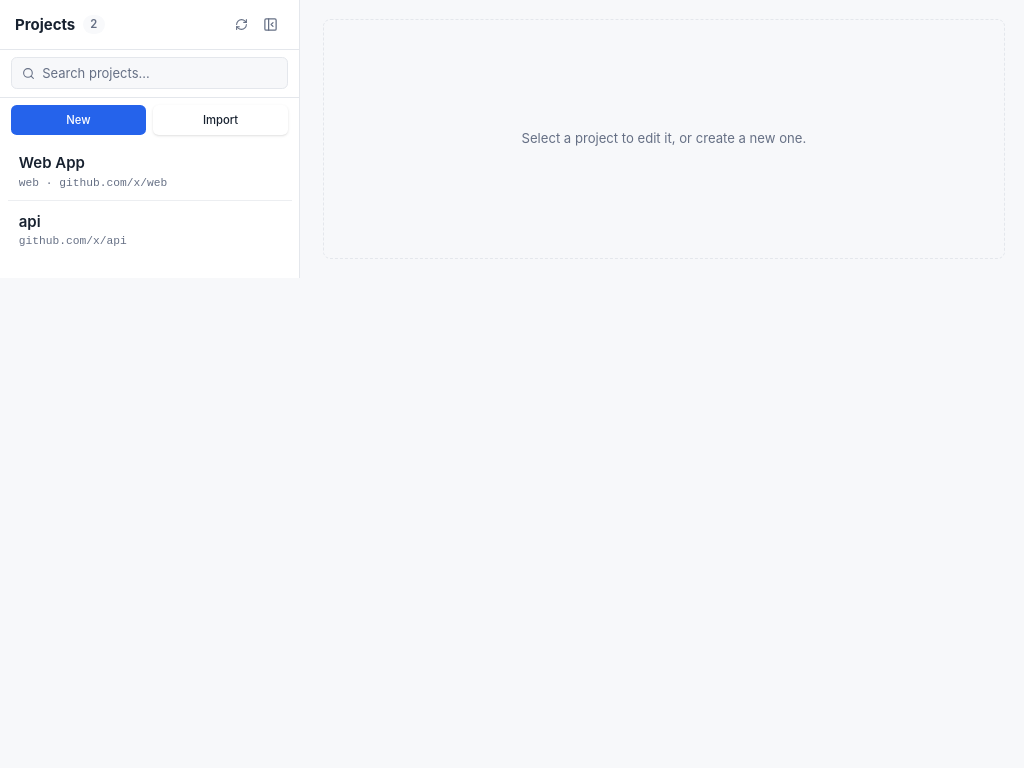
Scenario: ProjectsPage › surfaces the server's secret_params_orphaned rejection in the save error
The image size is (1024, 768).
Click the button "Web App web · github.com/x/web". click: (52, 163)
box: [8,143,292,201]
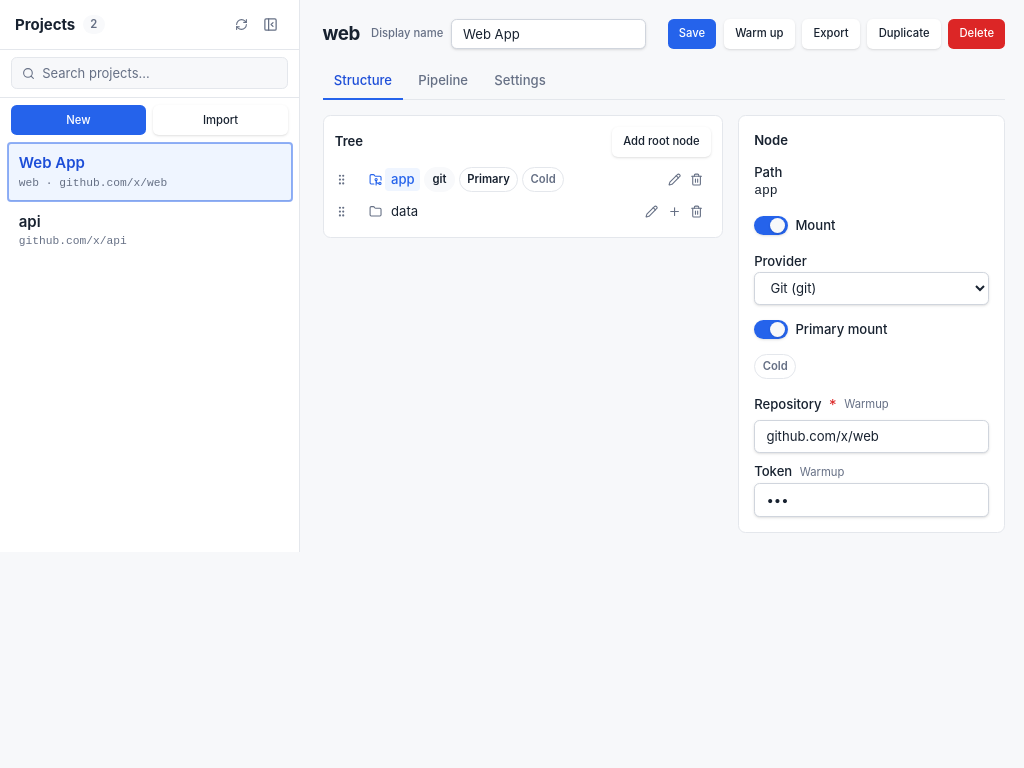
Expected: the button "app" is shown, [385,168,420,190]
Click the button named "Rename app". click: (674, 179)
box: [664,169,685,190]
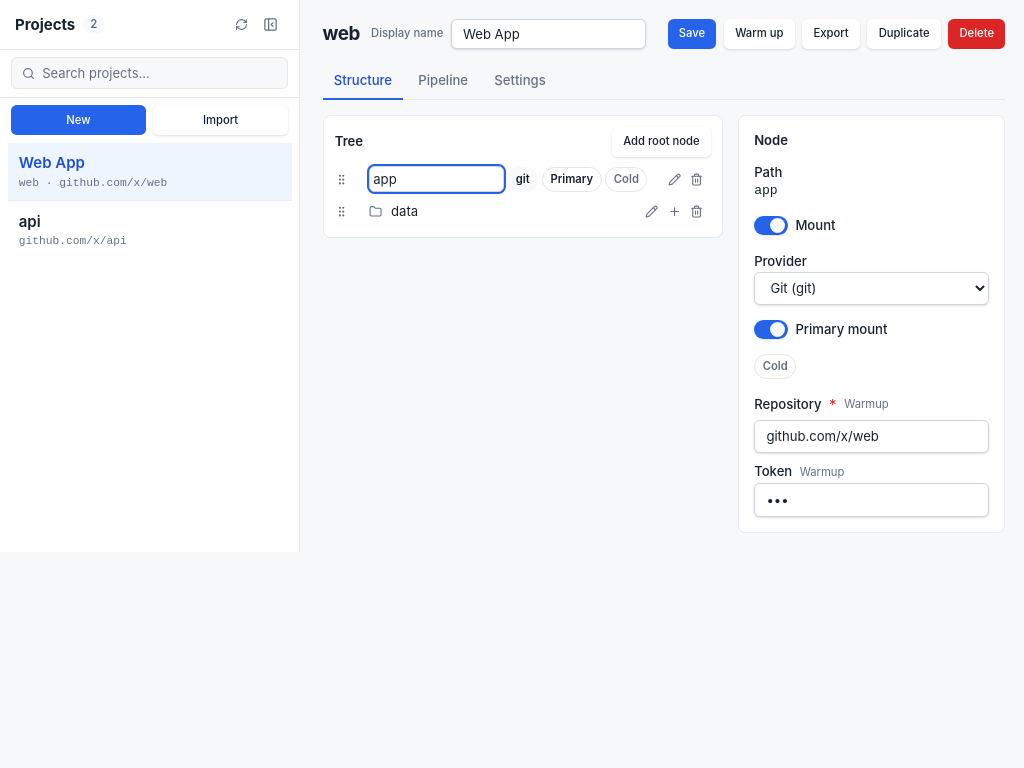
Replace the text in the field showing "app" with "frontend". click: (436, 179)
box: [368,166,504,192]
Then press Enter
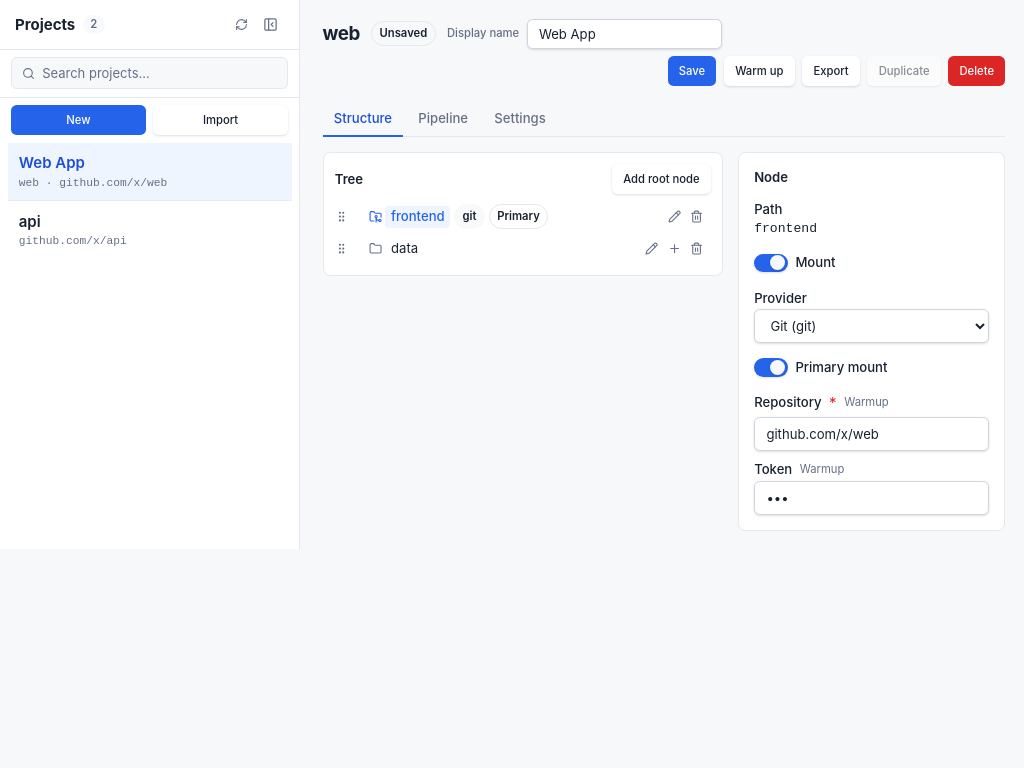
Click the button "Save". click: (692, 71)
box: [668,56,716,86]
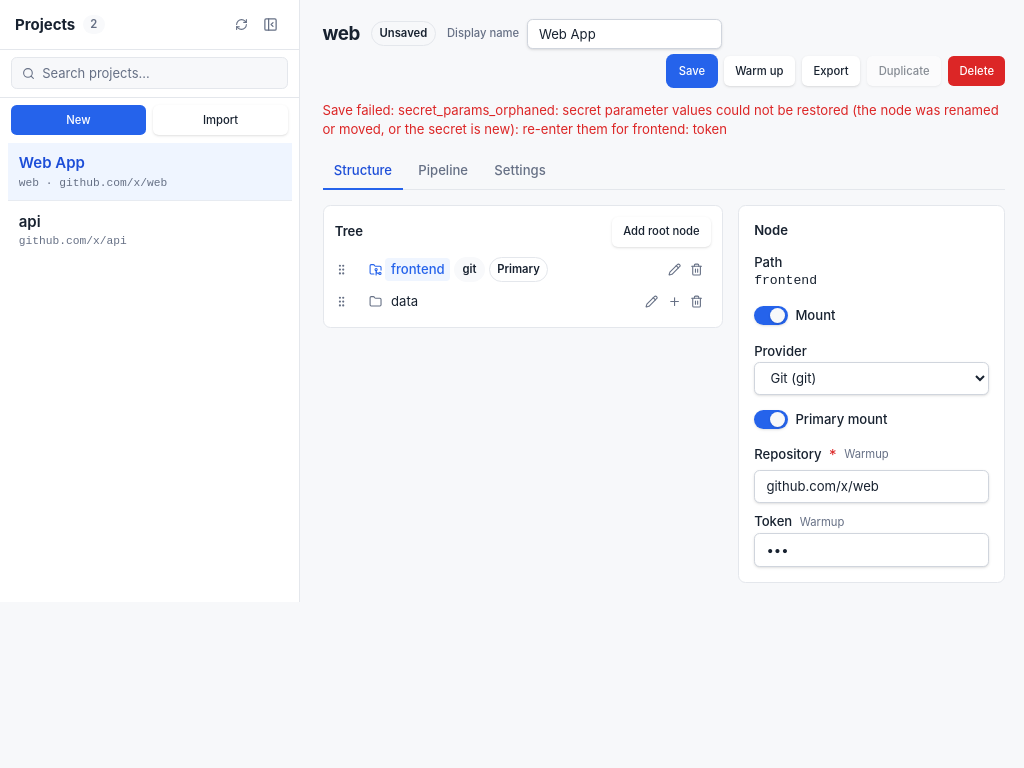
Expected: the message shows "secret_params_orphaned", [322,102,1002,137]
Expected: the message shows "re-enter them for frontend: token", [322,102,1002,137]
